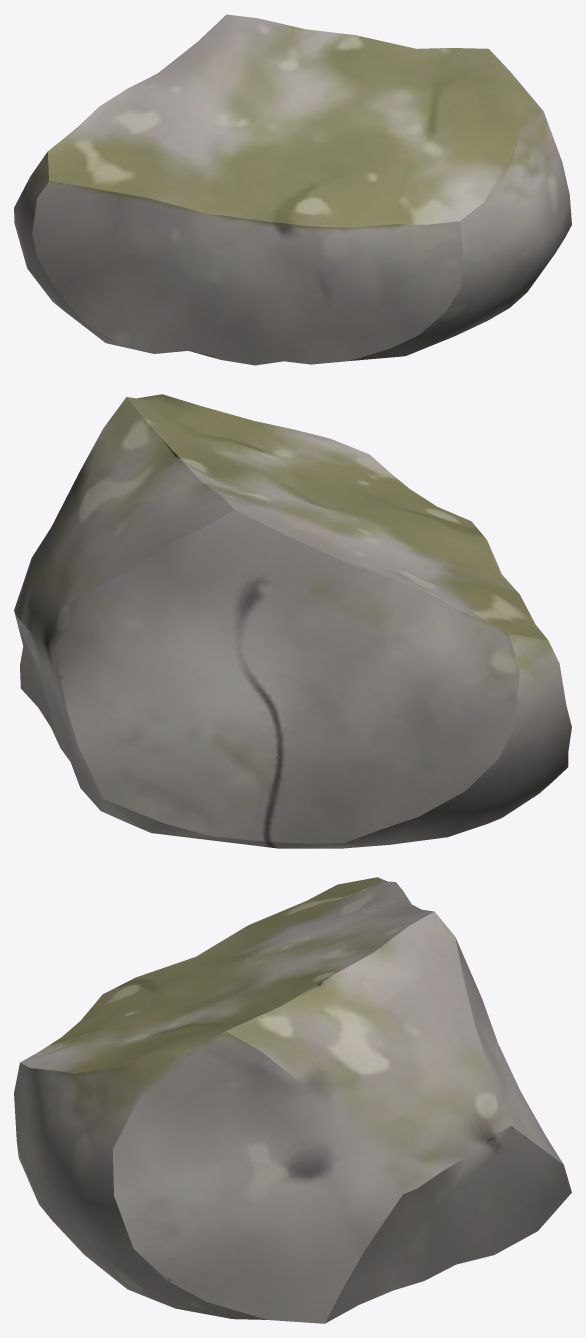
File: rockA.glb
3 views of the same model, one above another, from view 1: azimuth 30°, elevation 25°; view 2: azimuth 150°, elevation 25°; view 3: azimuth 270°, elevation 25° (orthographic). The views are drawn at different scales.
Visible parts, largest first — view 1: low; view 2: low; view 3: low.
Part boxes in pixels (box(x1,y1,x2,y2)): low: box(14, 14, 571, 365); low: box(14, 394, 571, 848); low: box(14, 877, 571, 1323).
Size of the model in its own units: 1.6 by 0.8033 by 1.4.
1 material, 1 textured.
